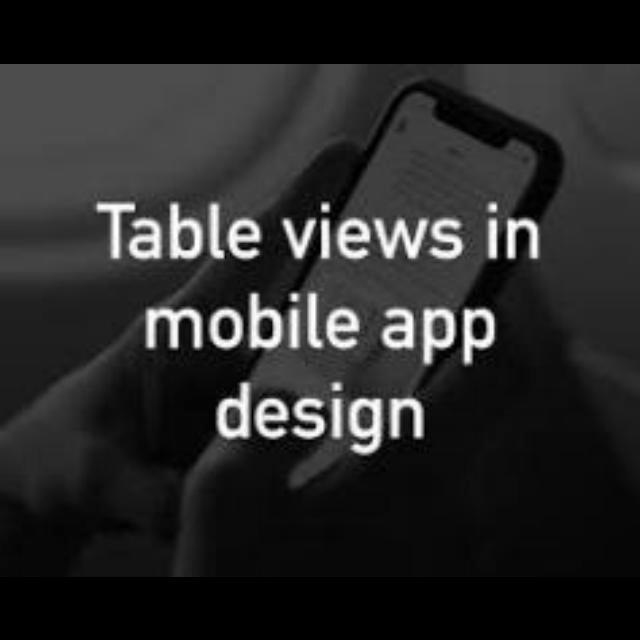fake: (158, 74, 575, 537)
